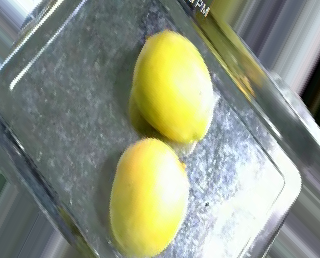Mango: (107, 138, 196, 253), (130, 29, 216, 141)
